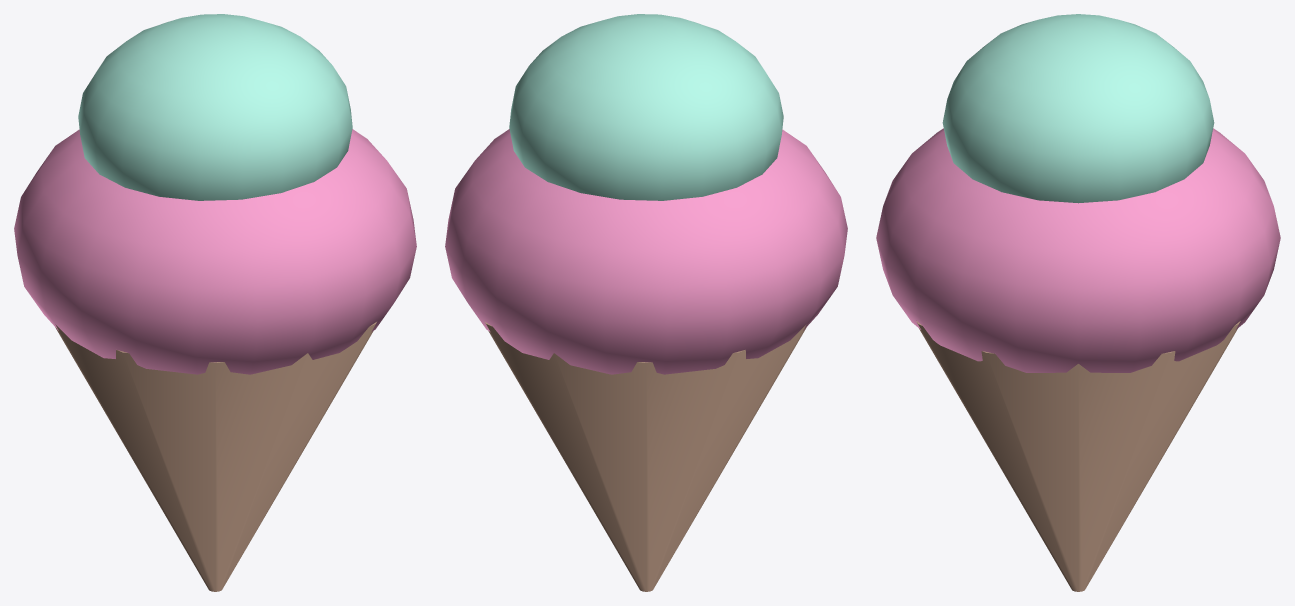
Rendered from st_candy_icecream.glb.
3 views of the same model, side by side, from view 1: azimuth 30°, elevation 25°; view 2: azimuth 150°, elevation 25°; view 3: azimuth 270°, elevation 25° (orthographic).
Parts seen in each view (by area): view 1: Ice_Cream_Island; view 2: Ice_Cream_Island; view 3: Ice_Cream_Island.
Boxes of the visible parts, x1,y1,x2,y2 form: Ice_Cream_Island: (14,14,416,591); Ice_Cream_Island: (445,14,847,591); Ice_Cream_Island: (876,14,1280,591).
Size of the model in its own units: 1.4 by 2.13 by 1.4.
